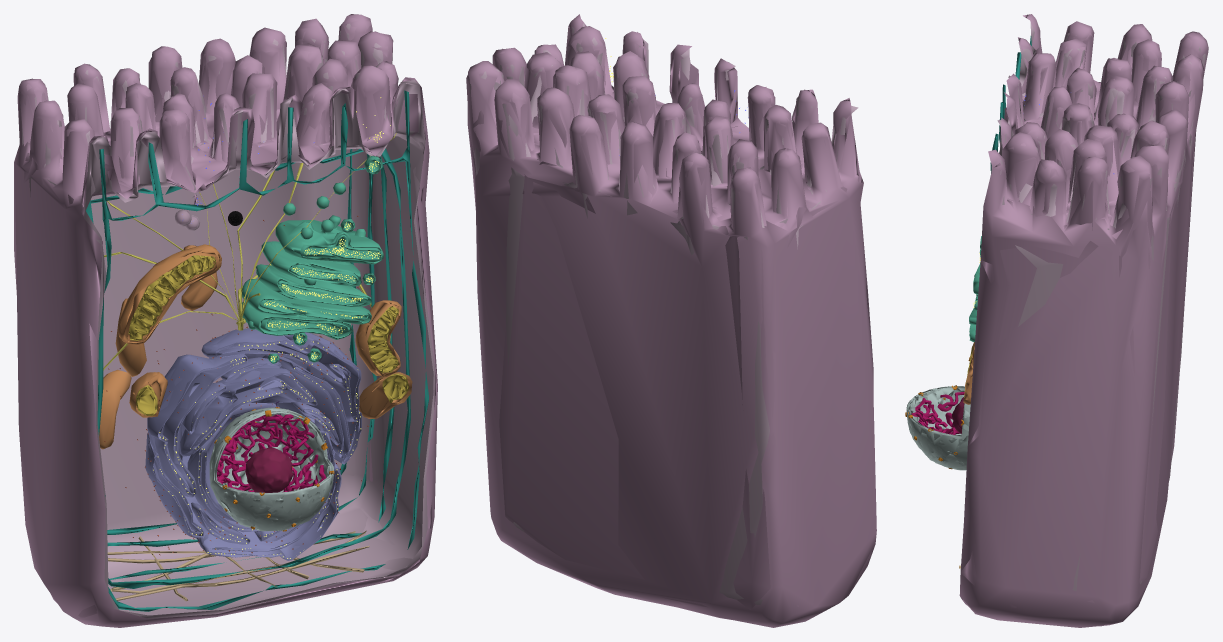
File: human.glb
3 views of the same model, side by side, from view 1: azimuth 30°, elevation 25°; view 2: azimuth 150°, elevation 25°; view 3: azimuth 270°, elevation 25° (orthographic). The views are drawn at different scales.
Parts seen in each view (by area): view 1: Cell_membrane2, Rer, Microfilaments2, Golgi, Mitochondria_external_membranes_Mitochondria_external_membra, Nucleus_membrane, Mitochondria_inside, Heterochromatin, Microfilaments, Centrioles, Proteins, Nucleolus; view 2: Cell_membrane2; view 3: Cell_membrane2, Nucleus_membrane, Heterochromatin, Golgi, Microfilaments2.
Boxes of the visible parts, x1,y1,x2,y2 form: Cell_membrane2: [14, 14, 437, 627]; Rer: [145, 328, 361, 560]; Microfilaments2: [86, 90, 428, 611]; Golgi: [242, 156, 383, 363]; Mitochondria_external_membranes_Mitochondria_external_membra: [99, 244, 412, 449]; Nucleus_membrane: [209, 407, 334, 531]; Mitochondria_inside: [128, 255, 409, 415]; Heterochromatin: [217, 414, 326, 492]; Microfilaments: [107, 530, 369, 601]; Centrioles: [103, 133, 396, 370]; Proteins: [153, 97, 390, 558]; Nucleolus: [245, 447, 293, 492]; Cell_membrane2: [466, 14, 876, 627]; Cell_membrane2: [959, 14, 1208, 627]; Nucleus_membrane: [906, 386, 970, 470]; Heterochromatin: [911, 392, 964, 434]; Golgi: [969, 236, 981, 341]; Microfilaments2: [990, 36, 1031, 173].
Bounding box in the file's own units: 6.48 × 9.04 × 5.1.
